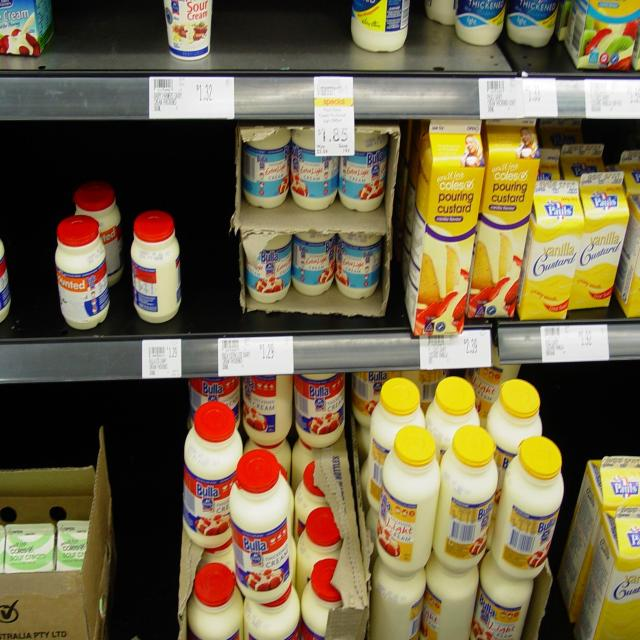empty_space: (115, 420, 175, 630), (187, 152, 234, 316), (9, 145, 54, 307), (226, 13, 338, 57), (60, 13, 151, 56)
